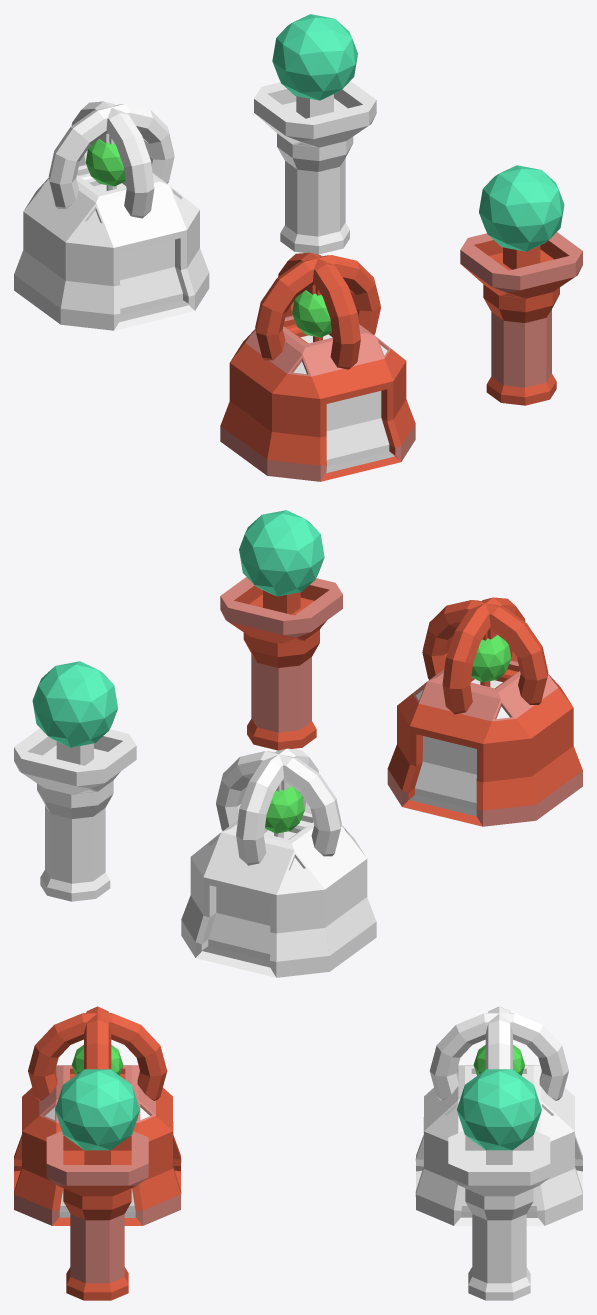
Rendered from Nexus.glb.
The picture shows the model from 3 angles, top to bottom: view 1: azimuth 30°, elevation 25°; view 2: azimuth 150°, elevation 25°; view 3: azimuth 270°, elevation 25°; orthographic projection. The views are drawn at different scales.
Parts seen in each view (by area): view 1: NexusRed, NexusBlue, TowerRed, TowerBlue; view 2: NexusBlue, NexusRed, TowerBlue, TowerRed; view 3: NexusBlue, NexusRed, TowerBlue, TowerRed.
Boxes of the visible parts, bbox=[...] form: NexusRed: bbox=[220, 252, 415, 481]; NexusBlue: bbox=[14, 101, 209, 330]; TowerRed: bbox=[460, 165, 582, 405]; TowerBlue: bbox=[254, 14, 376, 254]; NexusBlue: bbox=[181, 748, 376, 977]; NexusRed: bbox=[387, 597, 582, 826]; TowerBlue: bbox=[14, 661, 136, 901]; TowerRed: bbox=[220, 510, 342, 750]; NexusBlue: bbox=[415, 1006, 582, 1225]; NexusRed: bbox=[14, 1006, 181, 1225]; TowerBlue: bbox=[448, 1069, 550, 1300]; TowerRed: bbox=[46, 1069, 148, 1300].
Bounding box in the file's own units: 4.81 × 3.16 × 7.54.
